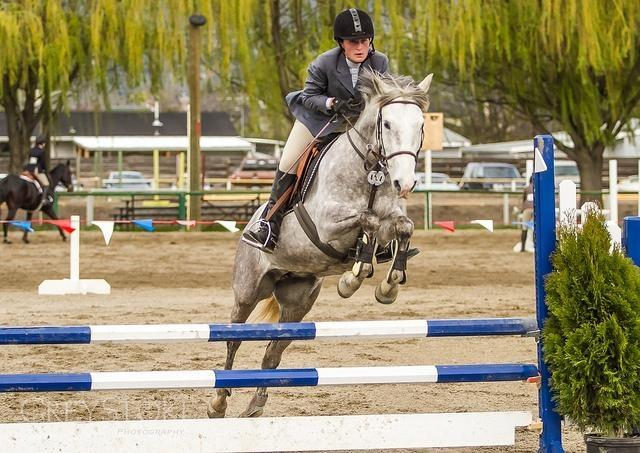car: (462, 159, 528, 193), (416, 172, 460, 192), (554, 160, 582, 186), (172, 173, 212, 189), (618, 174, 638, 190), (109, 173, 142, 179)
truck: (232, 158, 280, 180)
